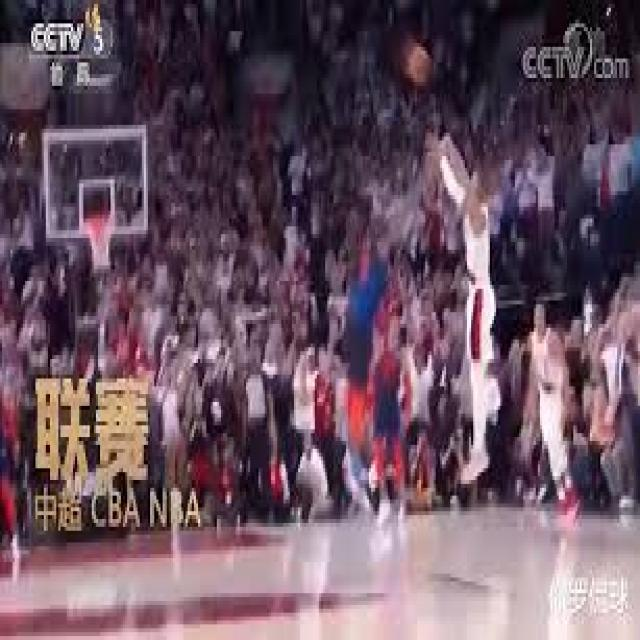rim: (408, 47, 429, 86)
